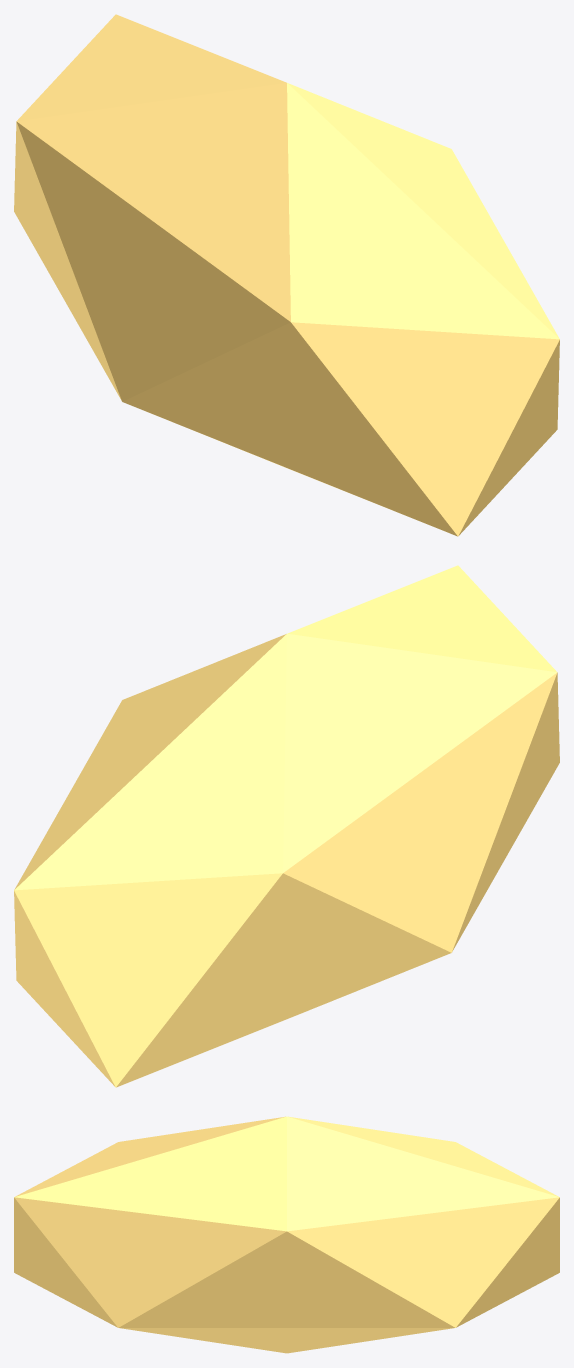
The model's file is collectible-letter-crystal.glb.
The picture shows the model from 3 angles, top to bottom: view 1: azimuth 30°, elevation 25°; view 2: azimuth 150°, elevation 25°; view 3: azimuth 270°, elevation 25°; orthographic projection. The views are drawn at different scales.
Visible parts, largest first — view 1: collectible_letter_crystal; view 2: collectible_letter_crystal; view 3: collectible_letter_crystal.
Boxes of the visible parts, x1=… form: collectible_letter_crystal: x1=14, y1=14, x2=559, y2=536; collectible_letter_crystal: x1=14, y1=565, x2=559, y2=1087; collectible_letter_crystal: x1=14, y1=1116, x2=559, y2=1353.
Bounding box in the file's own units: 0.4427 × 0.495 × 1.03.
